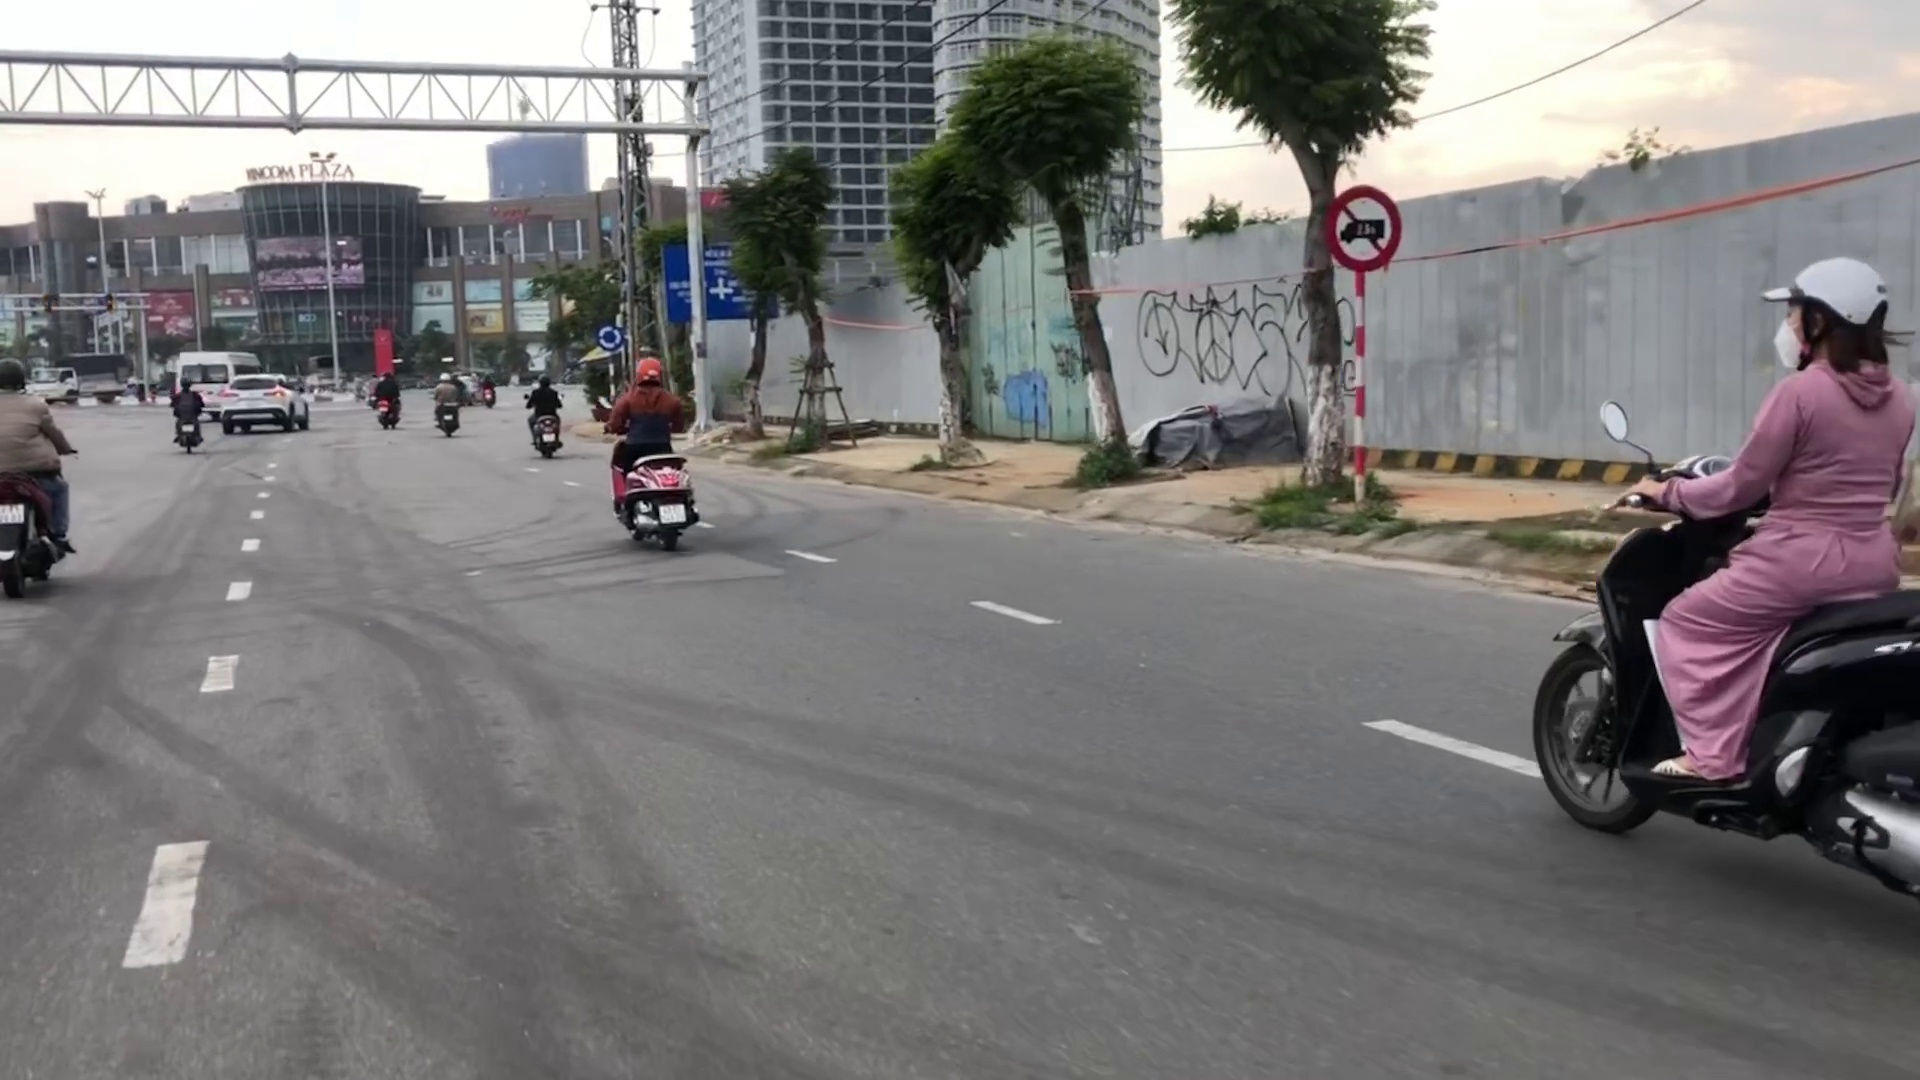Bien khac: (1320, 179, 1403, 273), (592, 320, 624, 352)
